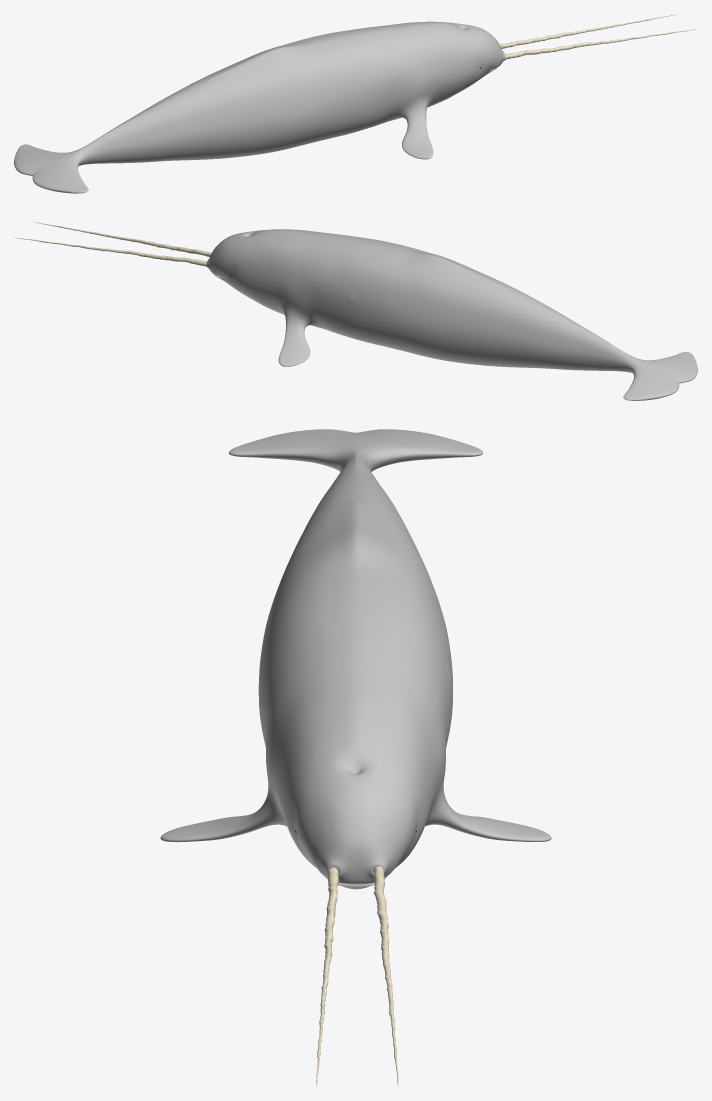
Rendered from model-narwhal-supplied-v0661.glb.
The picture shows the model from 3 angles, top to bottom: view 1: azimuth 30°, elevation 25°; view 2: azimuth 150°, elevation 25°; view 3: azimuth 270°, elevation 25°; orthographic projection. The views are drawn at different scales.
Parts seen in each view (by area): view 1: narwhal-supplied-body, narwhal-right-tusk, narwhal-left-tusk; view 2: narwhal-supplied-body, narwhal-left-tusk, narwhal-right-tusk; view 3: narwhal-supplied-body, narwhal-left-tusk, narwhal-right-tusk.
Boxes of the visible parts, x1=… form: narwhal-supplied-body: x1=14, y1=21, x2=505, y2=193; narwhal-right-tusk: x1=505, y1=29, x2=697, y2=59; narwhal-left-tusk: x1=500, y1=14, x2=676, y2=48; narwhal-supplied-body: x1=206, y1=229, x2=697, y2=400; narwhal-left-tusk: x1=14, y1=237, x2=207, y2=266; narwhal-right-tusk: x1=34, y1=222, x2=211, y2=256; narwhal-supplied-body: x1=160, y1=429, x2=551, y2=889; narwhal-left-tusk: x1=373, y1=866, x2=398, y2=1086; narwhal-right-tusk: x1=316, y1=867, x2=338, y2=1086.
Size of the model in its own units: 6.29 by 0.9085 by 1.61.
